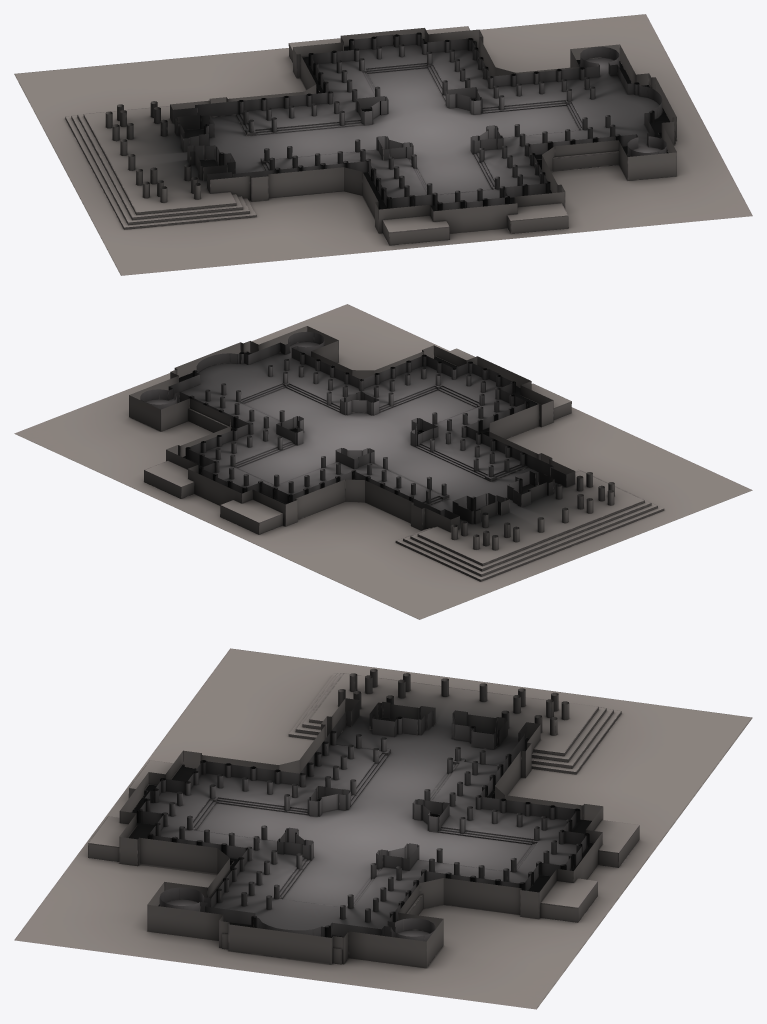
The model's file is sol_pantheon.glb.
3 renders of one model, top to bottom at view 1: azimuth 30°, elevation 25°; view 2: azimuth 150°, elevation 25°; view 3: azimuth 270°, elevation 25°, orthographic. The views are drawn at different scales.
Visible parts, largest first — view 1: sol.001, Vert.009, Plane.003, Cube.003, Cube.004, Cube.001, Cube.002, Cylinder.009, Cylinder.008; view 2: sol.001, Vert.009, Plane.003, Cube.002, Cube.004, Cylinder.008, Cube.001, Cube.003; view 3: sol.001, Vert.009, Plane.003, Cube.001, Cube.004, Cube.003, Cylinder.008, Cylinder.009, Cube.002.
Boxes of the visible parts, x1=… form: sol.001: x1=14, y1=14, x2=752, y2=275; Vert.009: x1=170, y1=28, x2=676, y2=233; Plane.003: x1=183, y1=33, x2=662, y2=210; Cube.003: x1=445, y1=87, x2=482, y2=114; Cube.004: x1=355, y1=96, x2=388, y2=125; Cube.001: x1=376, y1=136, x2=413, y2=160; Cube.002: x1=470, y1=125, x2=503, y2=154; Cylinder.009: x1=580, y1=46, x2=619, y2=74; Cylinder.008: x1=627, y1=134, x2=666, y2=156; sol.001: x1=14, y1=304, x2=752, y2=619; Vert.009: x1=129, y1=326, x2=575, y2=532; Plane.003: x1=168, y1=342, x2=553, y2=516; Cube.002: x1=340, y1=391, x2=379, y2=415; Cube.004: x1=335, y1=448, x2=374, y2=469; Cylinder.008: x1=285, y1=331, x2=324, y2=356; Cube.001: x1=410, y1=418, x2=438, y2=446; Cube.003: x1=276, y1=416, x2=303, y2=445; sol.001: x1=14, y1=648, x2=752, y2=1009; Vert.009: x1=119, y1=698, x2=603, y2=968; Plane.003: x1=139, y1=708, x2=587, y2=936; Cube.001: x1=307, y1=786, x2=350, y2=816; Cube.004: x1=412, y1=799, x2=449, y2=832; Cube.003: x1=376, y1=843, x2=419, y2=870; Cylinder.008: x1=159, y1=887, x2=210, y2=912; Cylinder.009: x1=384, y1=918, x2=435, y2=941; Cube.002: x1=277, y1=827, x2=313, y2=860.
Size of the model in its own units: 158 by 5.5 by 137.
Materials: 1 (1 with a texture image).
